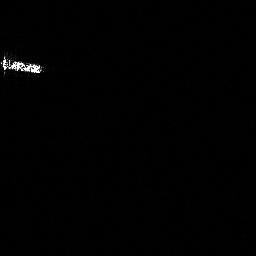ship: (1, 51, 46, 77)
